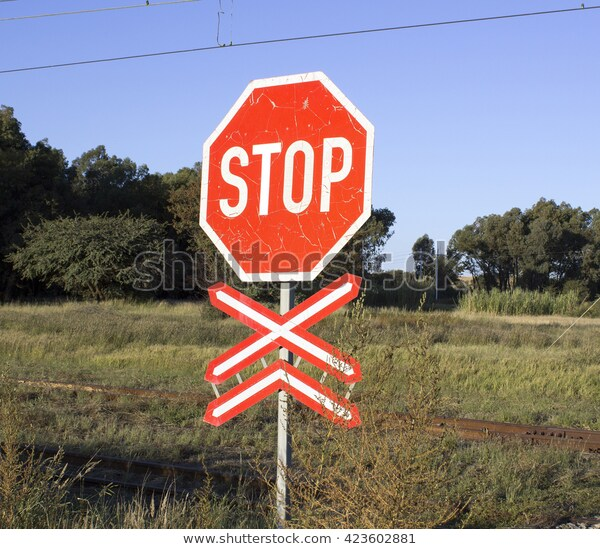stop: (194, 63, 379, 291)
